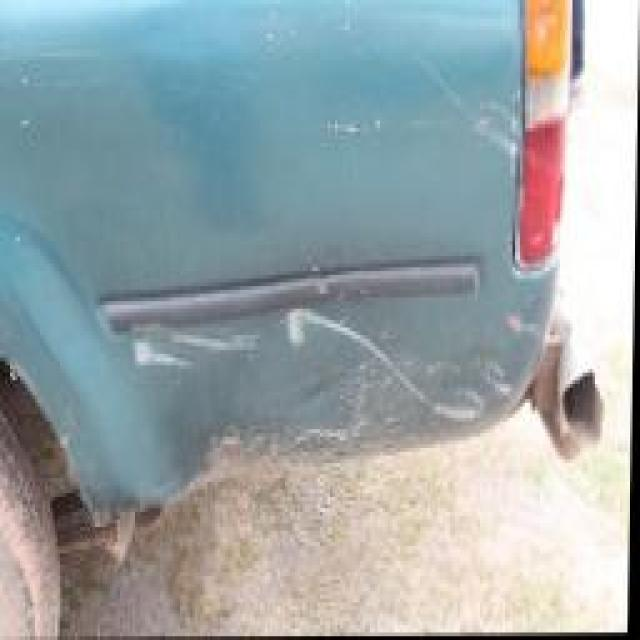Fender: (112, 301, 535, 482)
